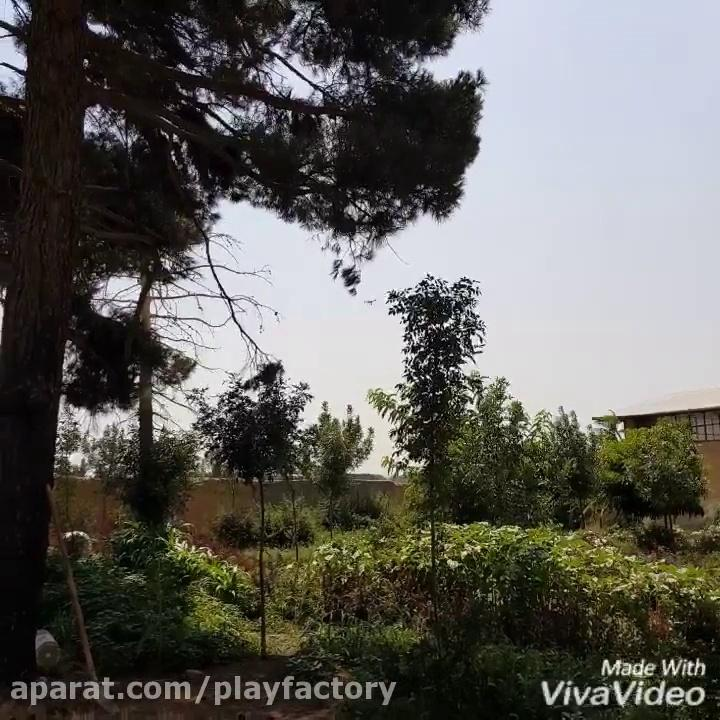drone: (362, 294, 376, 305)
